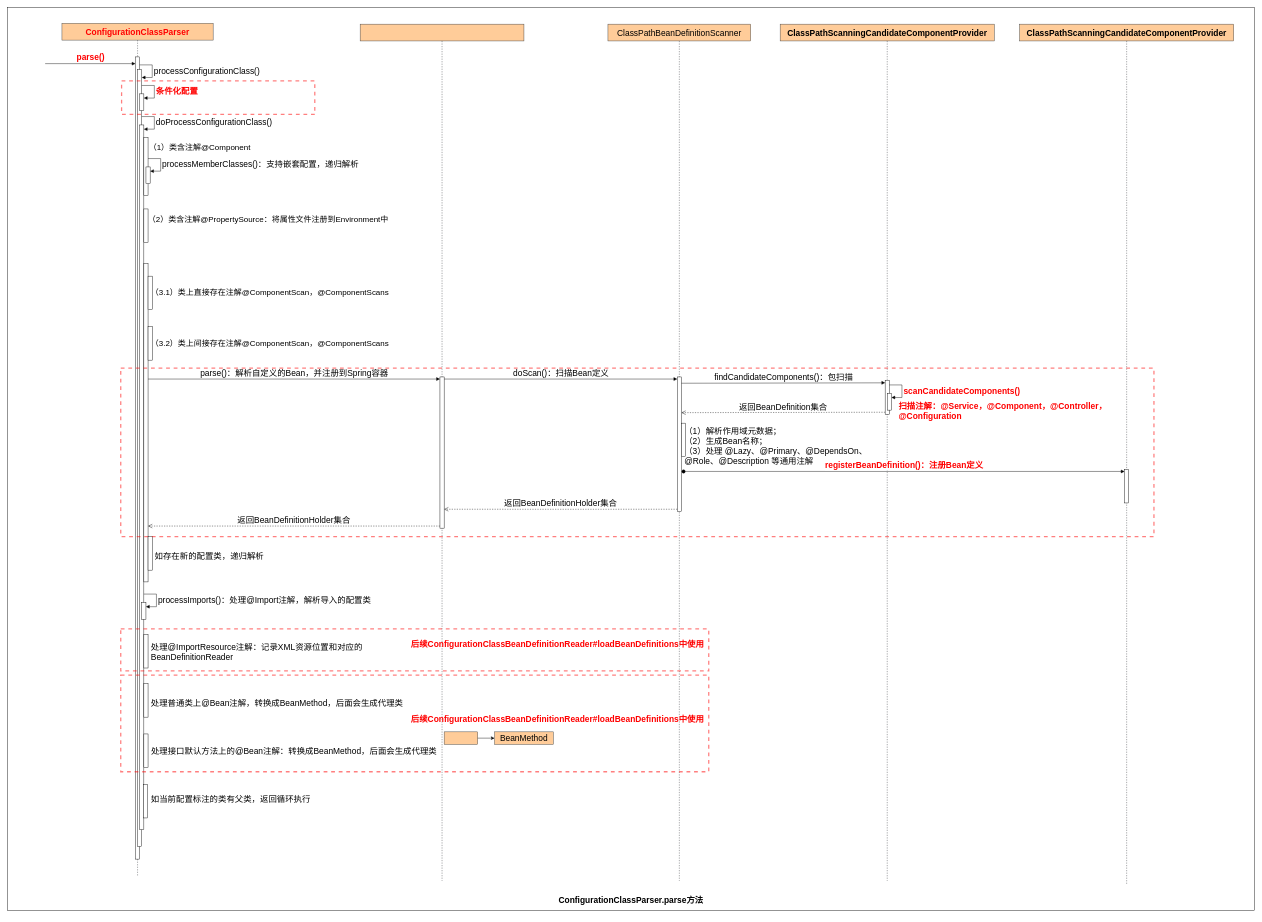
Image size: 1262x922. Some labels were removed from this diagram. The shapes that lost their labels are listed below. From the top down, each one's box as (x1, y1, x2, y2) in pixels, then its label:
(360, 24, 524, 881): ComponentScanAnnotationParser
(444, 731, 478, 744): @Bean
